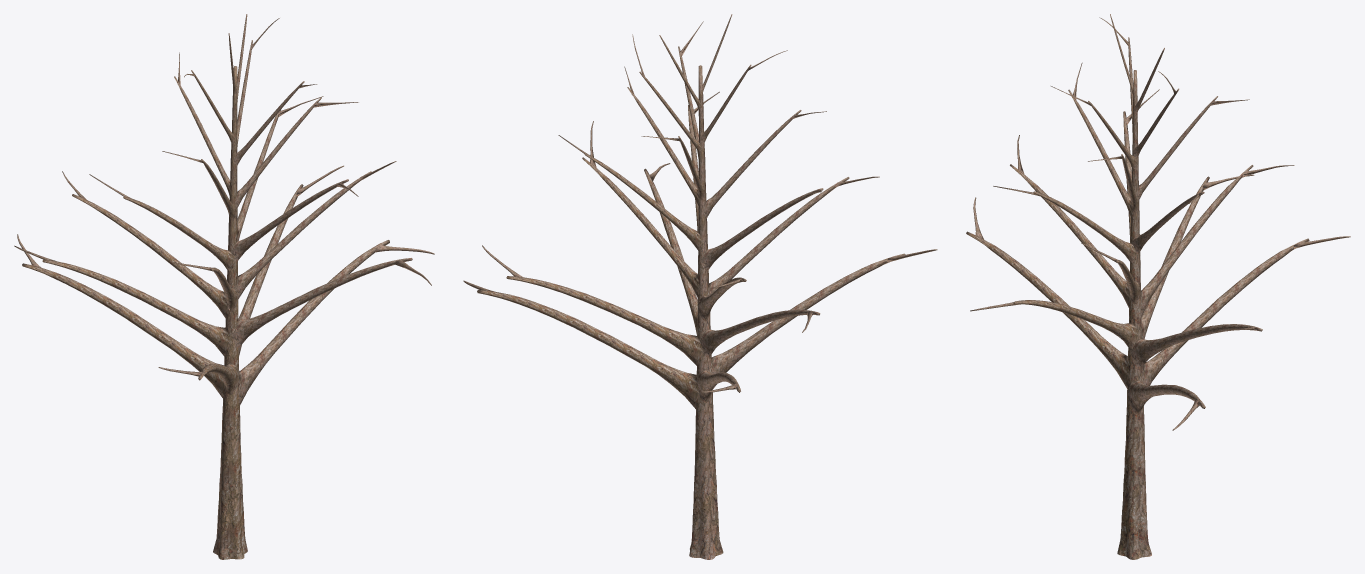
The model's file is DeadPineTreeVariant2.obj.
3 views of the same model, side by side, from view 1: azimuth 30°, elevation 25°; view 2: azimuth 150°, elevation 25°; view 3: azimuth 270°, elevation 25° (orthographic).
Visible parts, largest first — view 1: tree; view 2: tree; view 3: tree.
Boxes of the visible parts, box(x1,y1,x2,y2) form: tree: box(14, 14, 434, 559); tree: box(463, 14, 937, 559); tree: box(966, 14, 1350, 559).
Size of the model in its own units: 197 by 263 by 173.
Materials: 1 (1 with a texture image).
